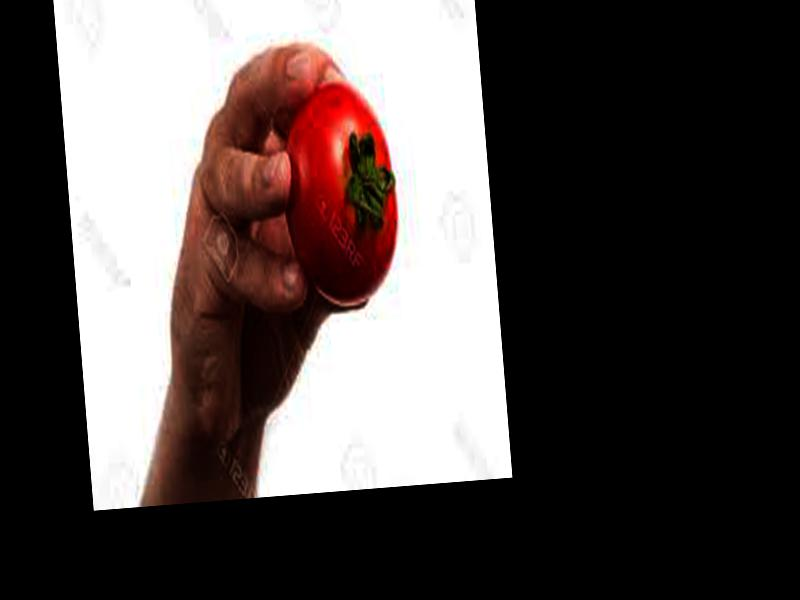Tomato: (278, 79, 404, 307)
